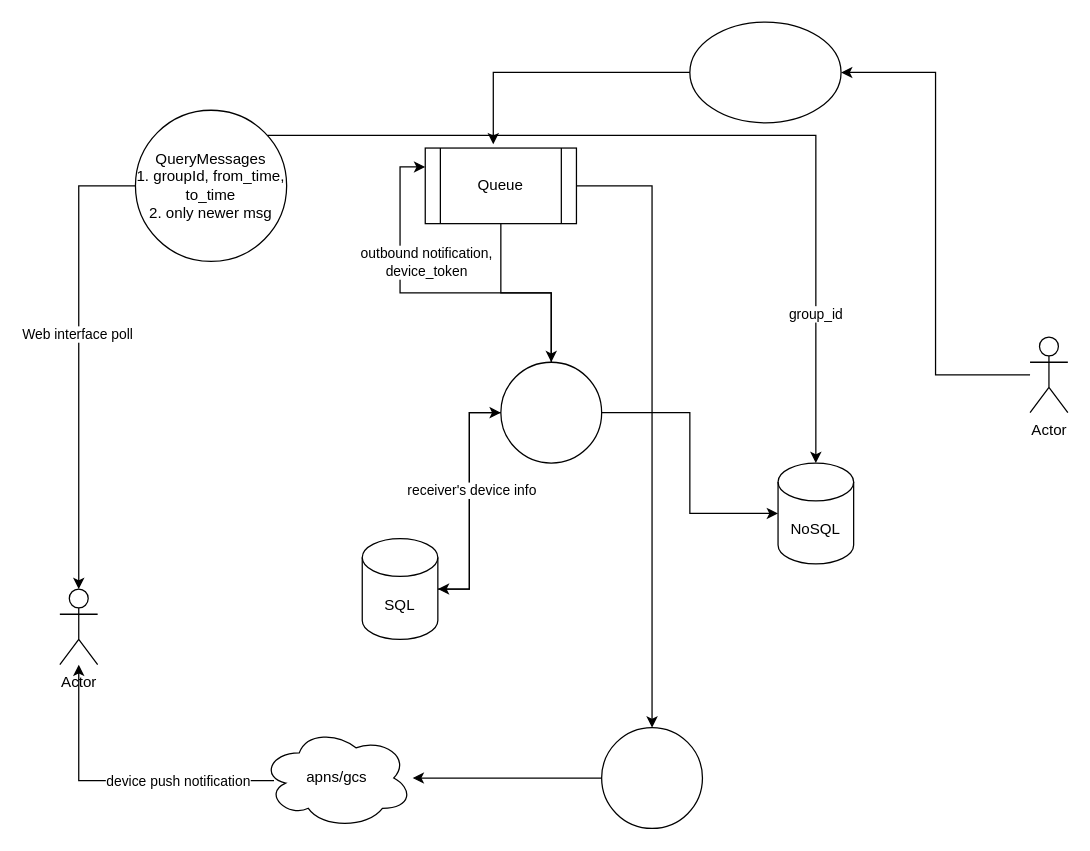
The diagram is 1090 pixels wide and 851 high, and some of its shapes have lost their labels. Each missing label, with the centre of its shape:
"Inbound Consumer" belongs at (551,412).
"Message Service" belongs at (765,72).
"Utbound consumer" belongs at (651,777).
